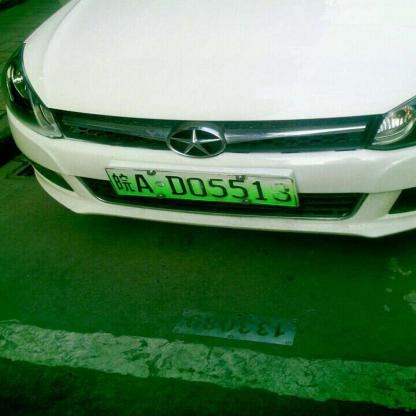lp: (107, 169, 298, 206)
